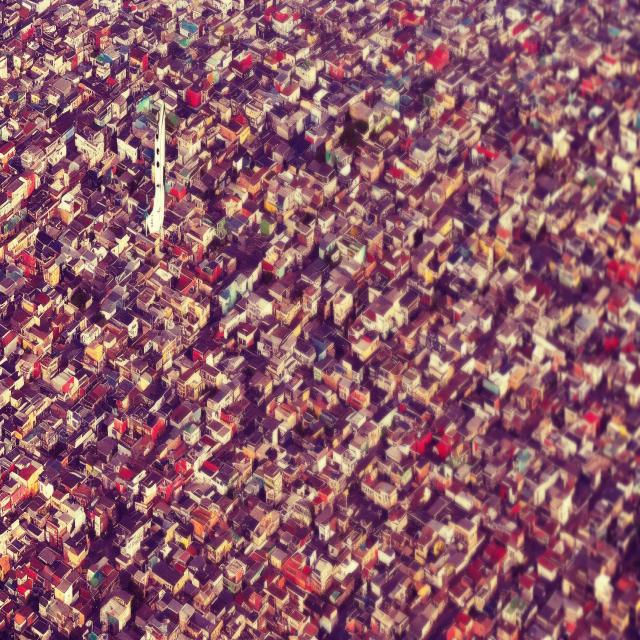airplane: (144, 100, 167, 237)
